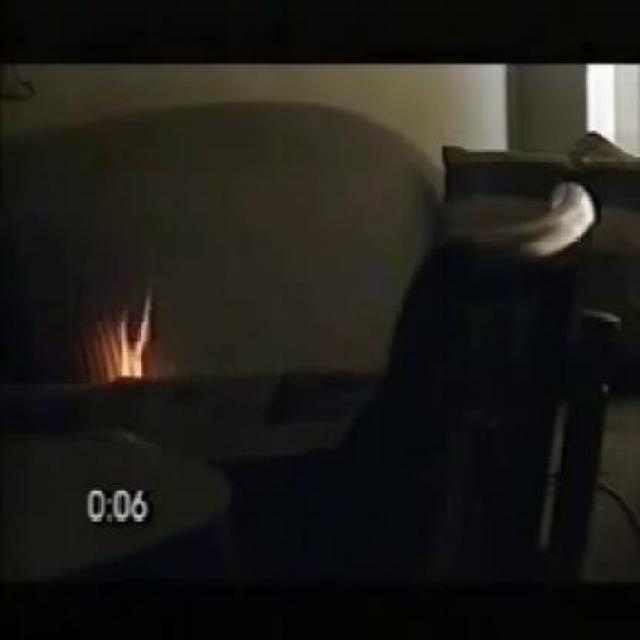fire: (94, 287, 164, 378)
